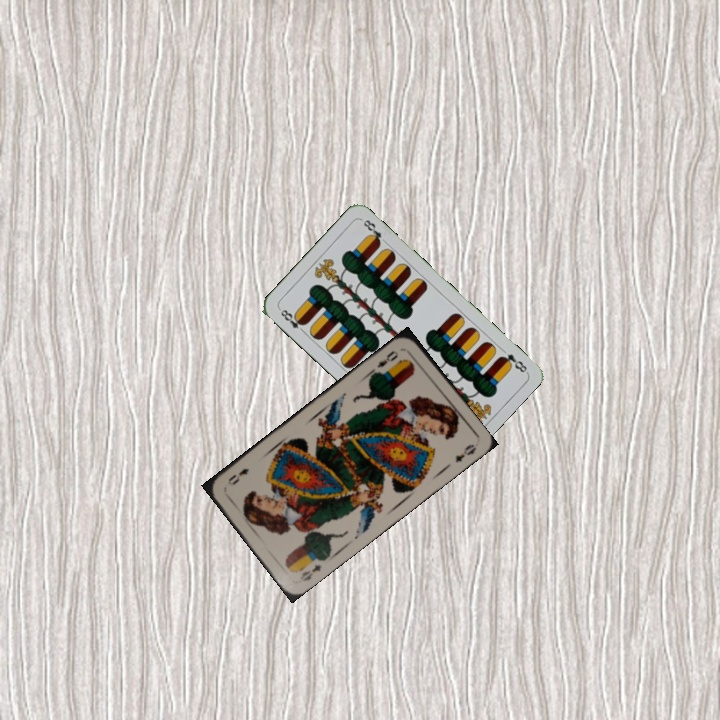E8: (275, 304, 308, 336), (495, 350, 530, 375)
EO: (373, 346, 401, 371), (296, 560, 323, 584)
